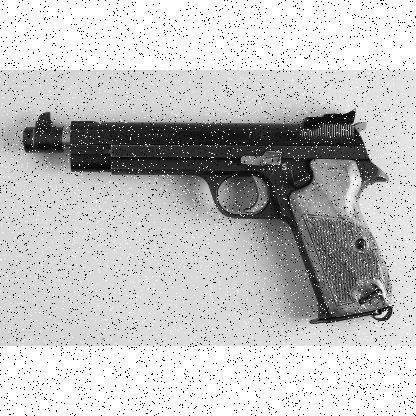gun: (23, 107, 393, 323)
